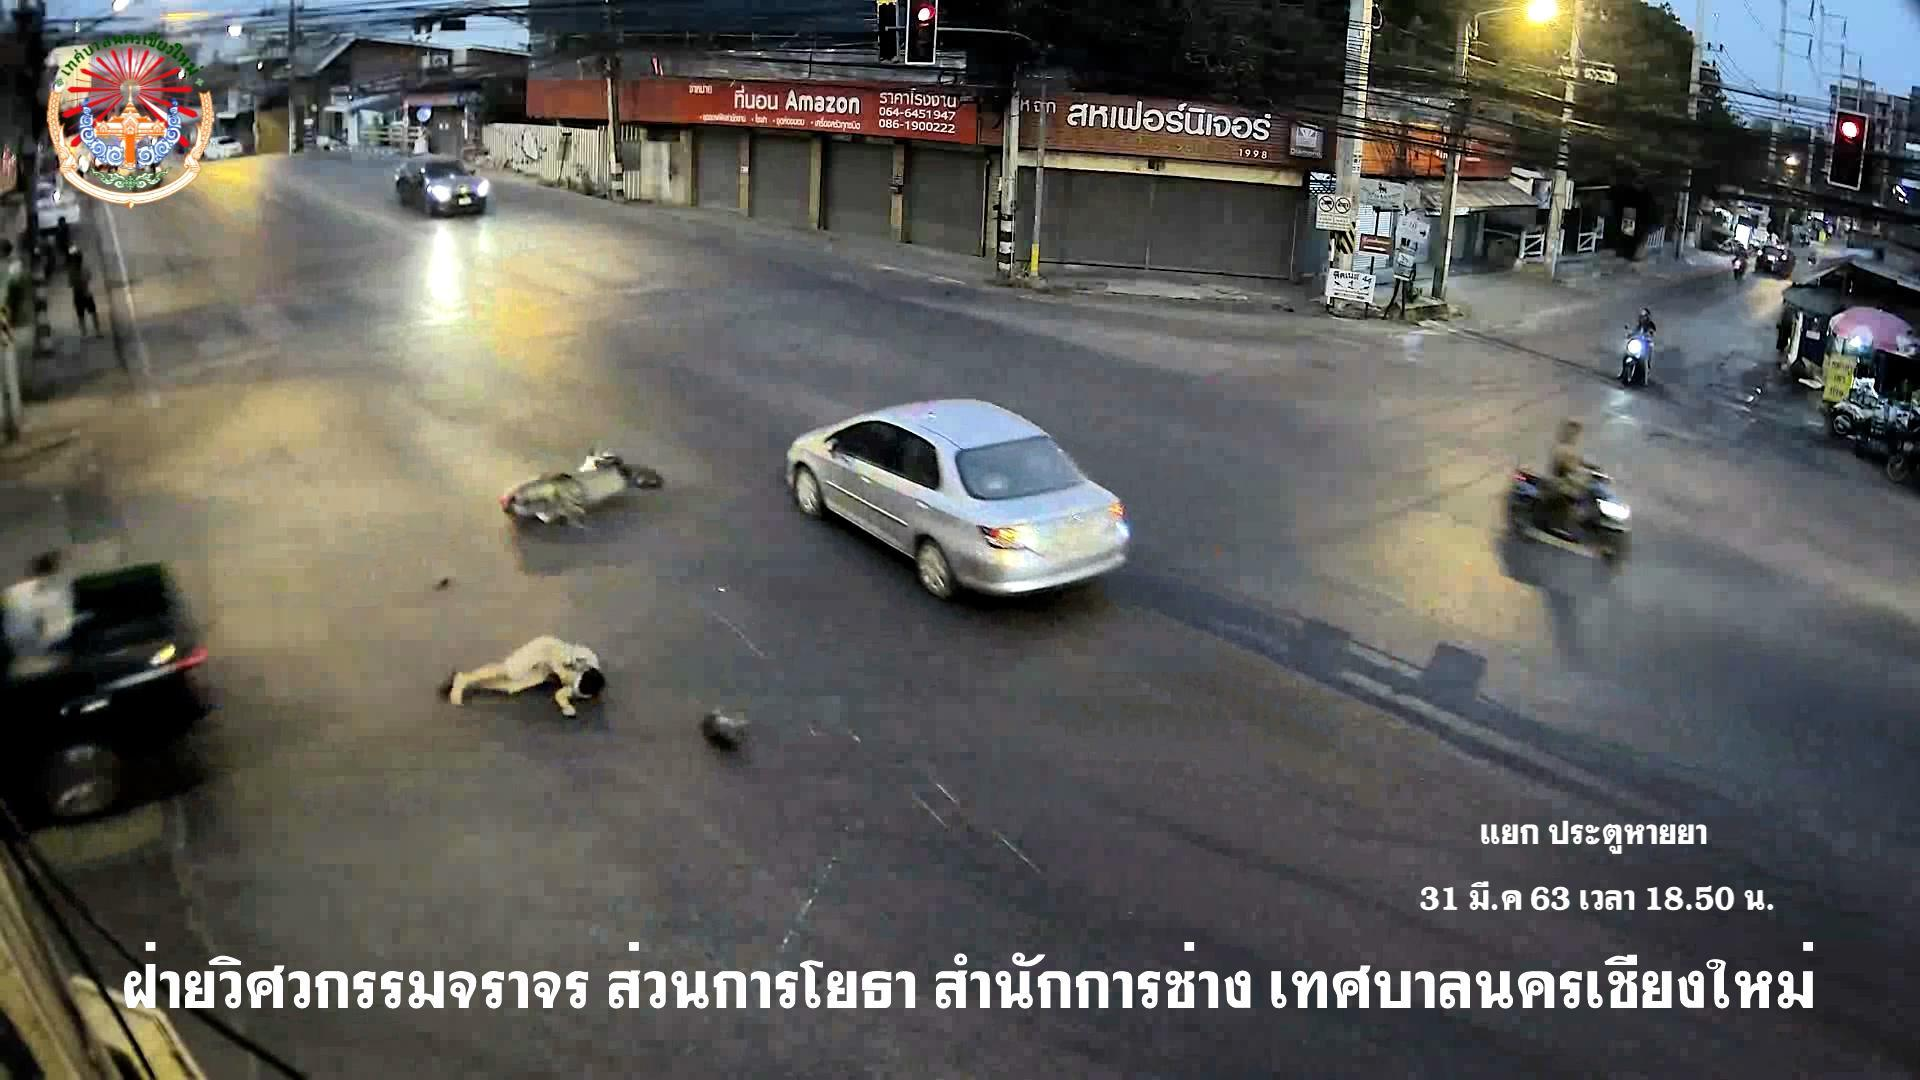accident: (438, 622, 617, 732)
